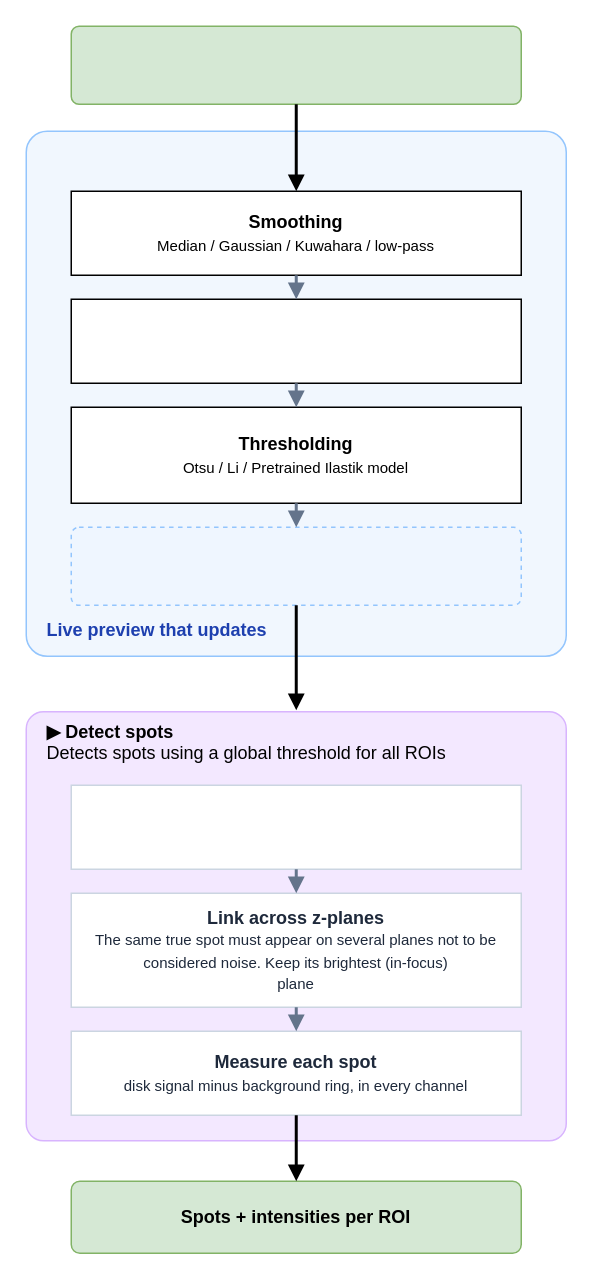
The diagram is 593 pixels wide and 1280 high, and some of its shapes have lost their labels. Each missing label, with the box of its shape:
Find local maxima candidate spots on every plane: (70, 784, 521, 869)
Preview shows: outline of the thresholded mask + a rough spot count: (70, 526, 521, 605)
User draws ROIs rectangle or polygon — detection runs only inside them: (70, 25, 521, 104)
White top-hat: (70, 298, 521, 383)
